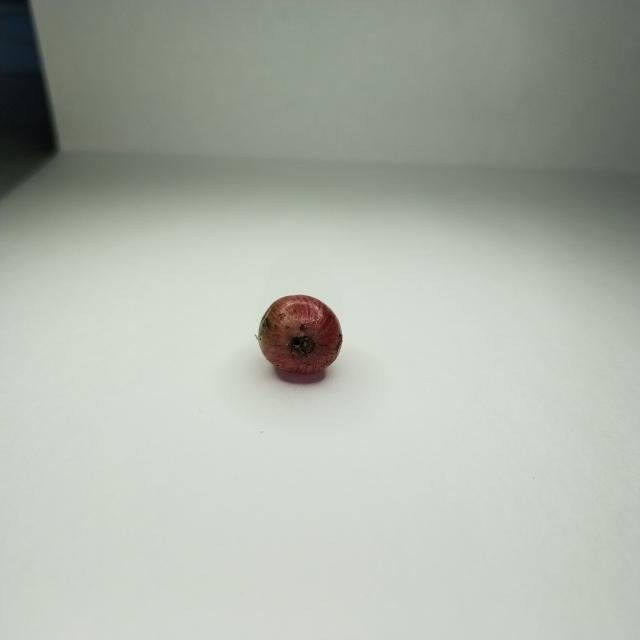Infectado: (257, 295, 342, 375)
